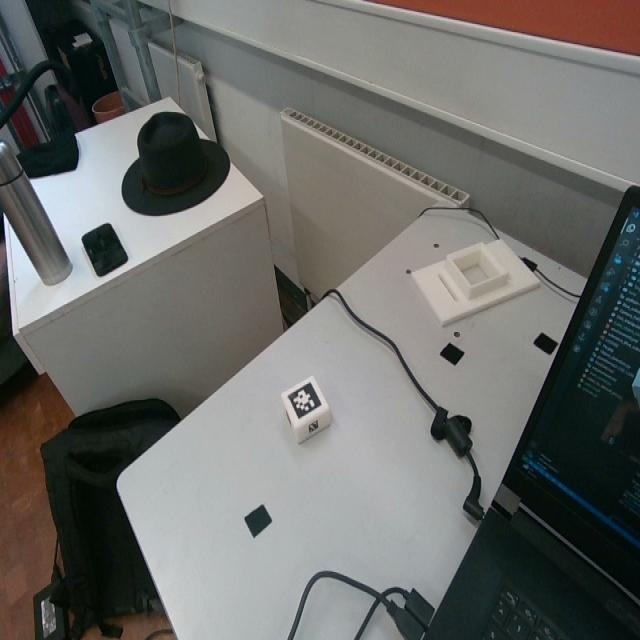Cube: (280, 374, 333, 449)
